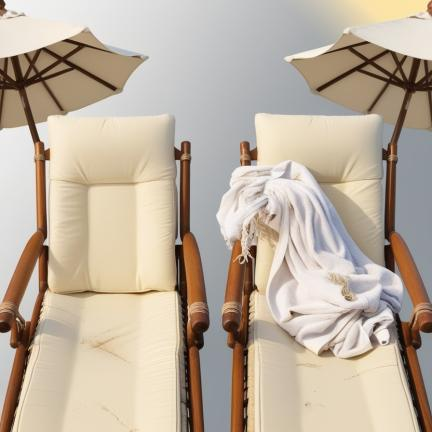empty chair: (0, 115, 209, 432)
occupied chair: (218, 114, 432, 432)
